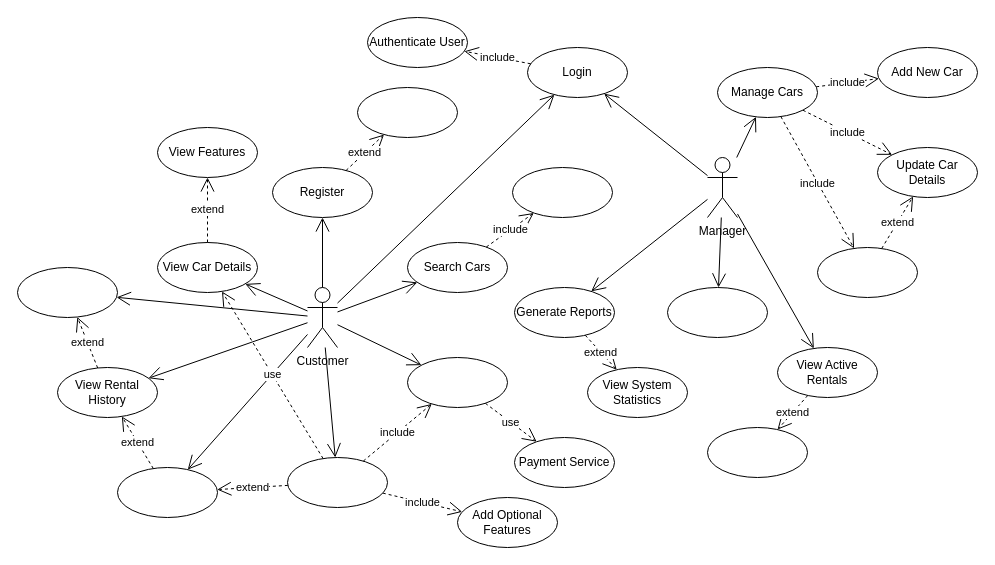
Image size: 995x565. Some labels were removed from this diagram. Each missing label, with the box of its shape:
Approve Reservation: (706, 426, 808, 478)
Cancel Reservation: (116, 466, 218, 518)
Filter Cars: (512, 166, 612, 218)
Give Feedback: (16, 266, 118, 318)
Make Payment: (406, 356, 508, 408)
Make Reservation: (286, 456, 388, 508)
Manage Customer Account: (666, 286, 768, 338)
Remove Car: (816, 246, 918, 298)
Verify Email: (356, 86, 458, 138)
